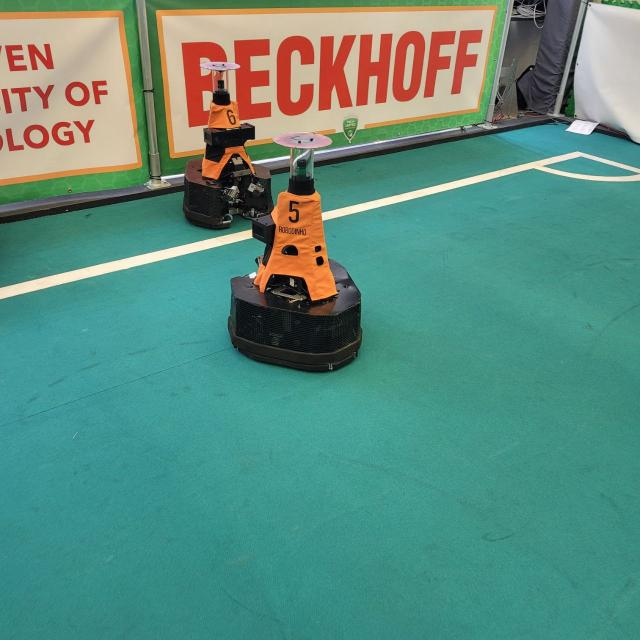robot: (174, 56, 403, 402)
